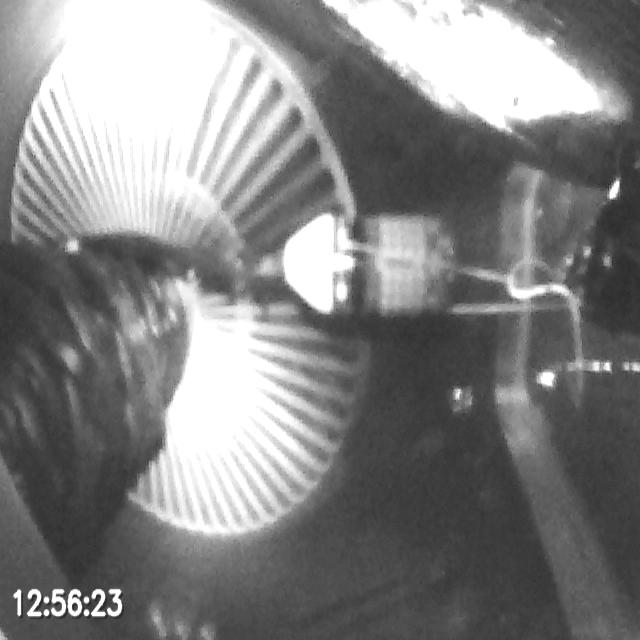head: (283, 214, 457, 316)
